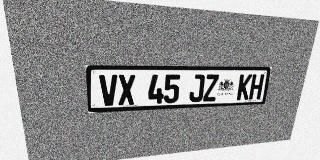4: (148, 74, 164, 104)
5: (164, 74, 180, 103)
H: (248, 74, 264, 100)
J: (189, 74, 205, 102)
K: (236, 74, 252, 100)
V: (99, 75, 118, 106)
X: (118, 75, 135, 105)
Z: (203, 74, 219, 102)
